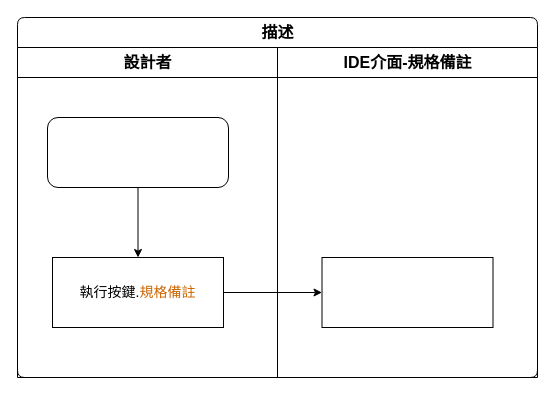
The diagram is 555 pixels wide and 395 high, and some of its shapes have lost their labels. The shapes that lost their labels are listed below. From the top down, each one's centre as x and y in pixels, then its label:
At point 137,152: "開啟<離線資料交易>".
At point 407,292: "開啟<規格備註> 顯示規格描述內容".
